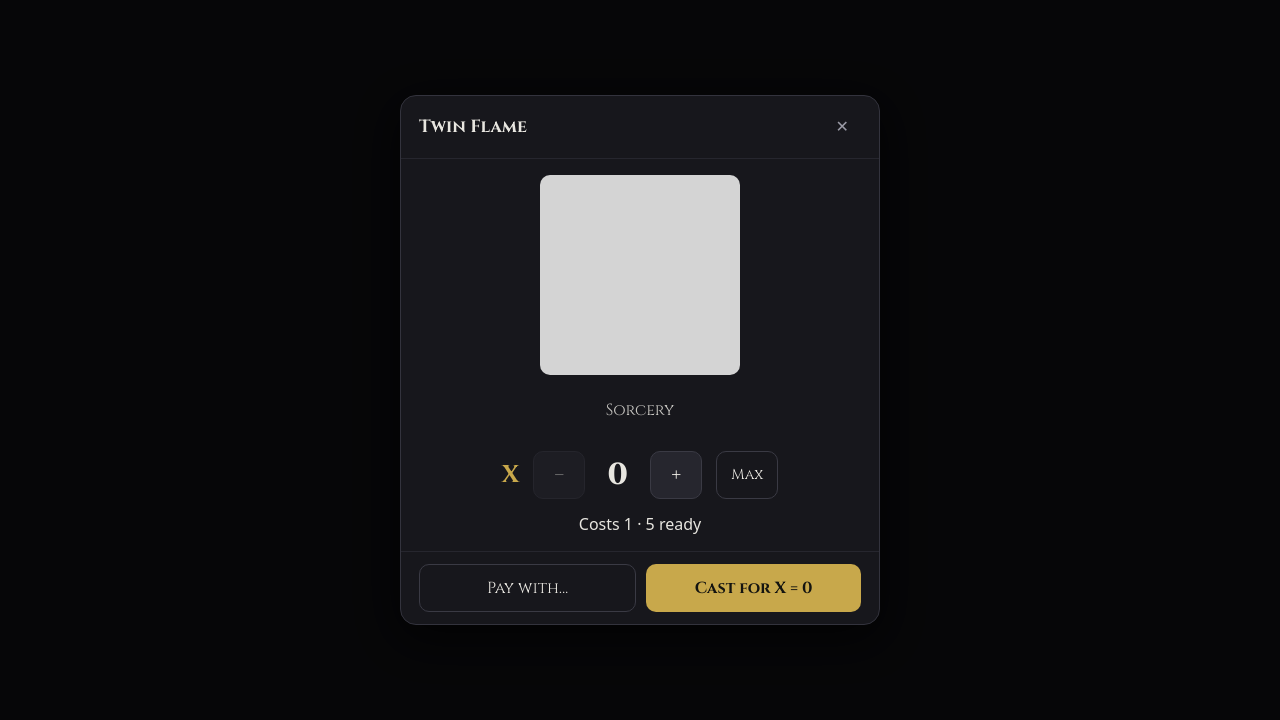
Test: each {X} in the cost is paid once per point
Click the button named "raise X". click: (676, 475)
box: [650,451,702,499]
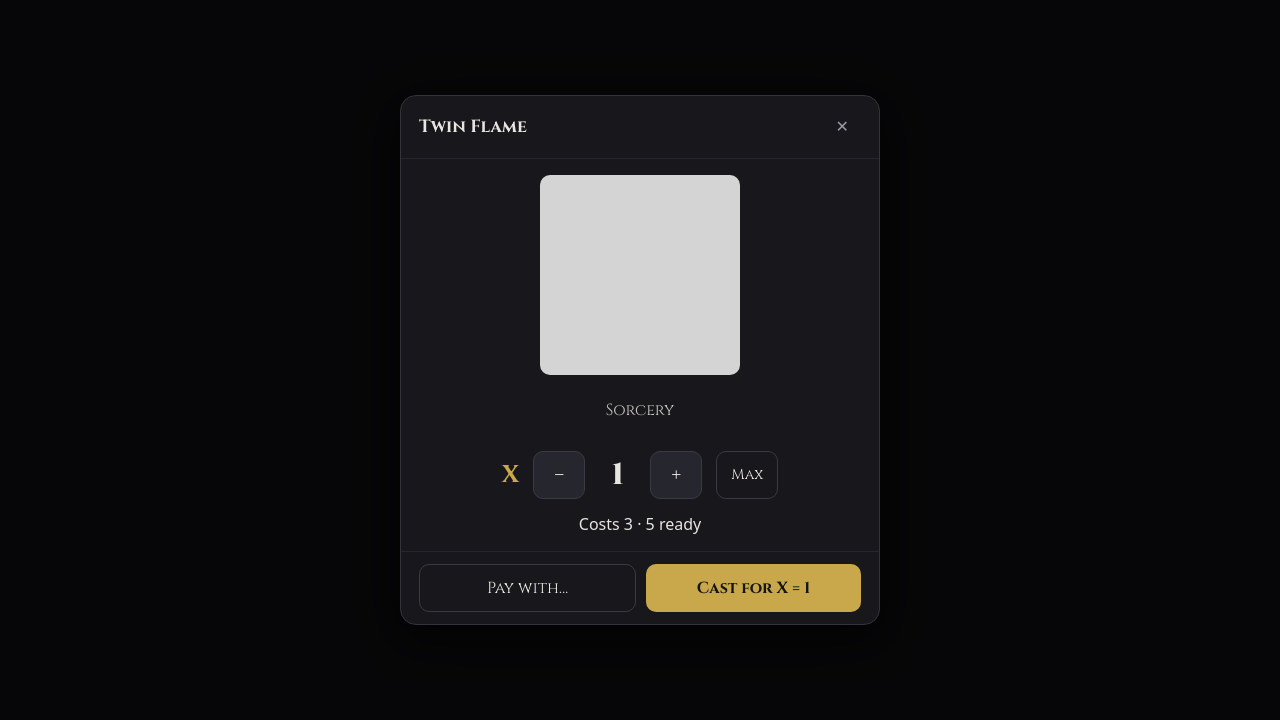
Expected: the text "Costs 3 · 5 ready" is shown, [579,513,701,535]
Click the button "Max". click: (747, 475)
box: [716,451,778,499]
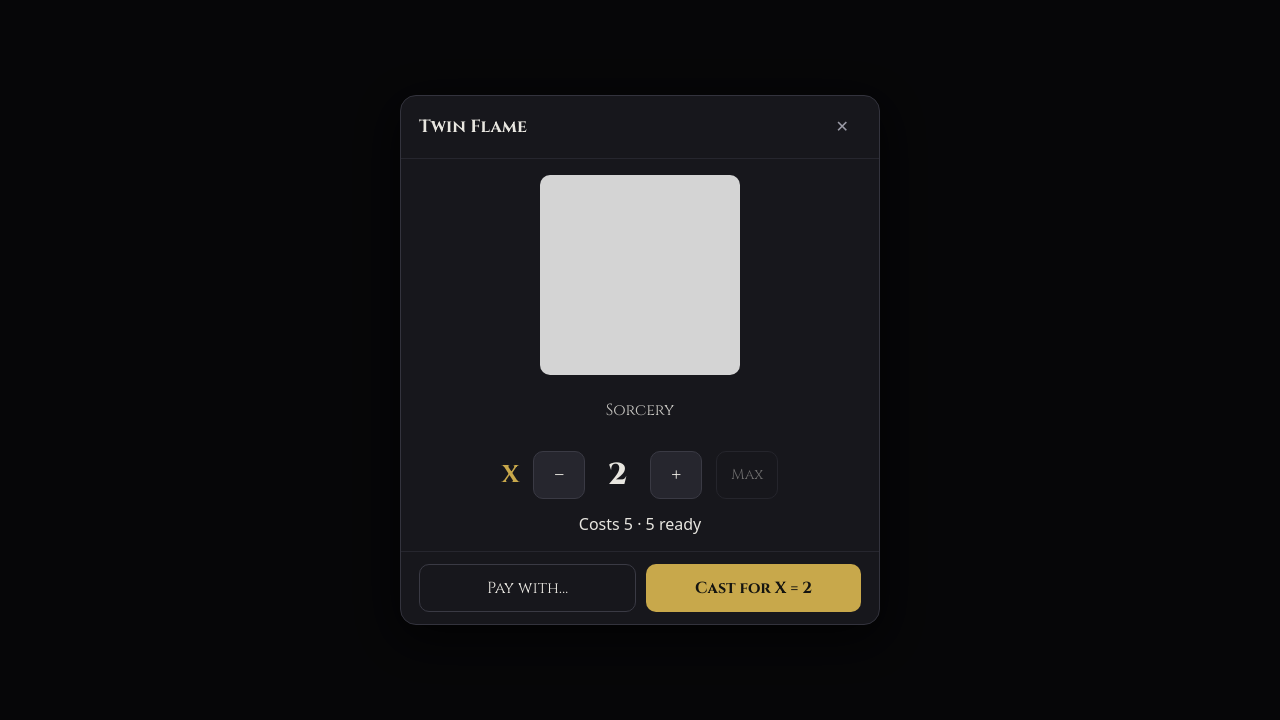
Expected: the button "Cast for X = 2" is shown, [646,564,861,612]
